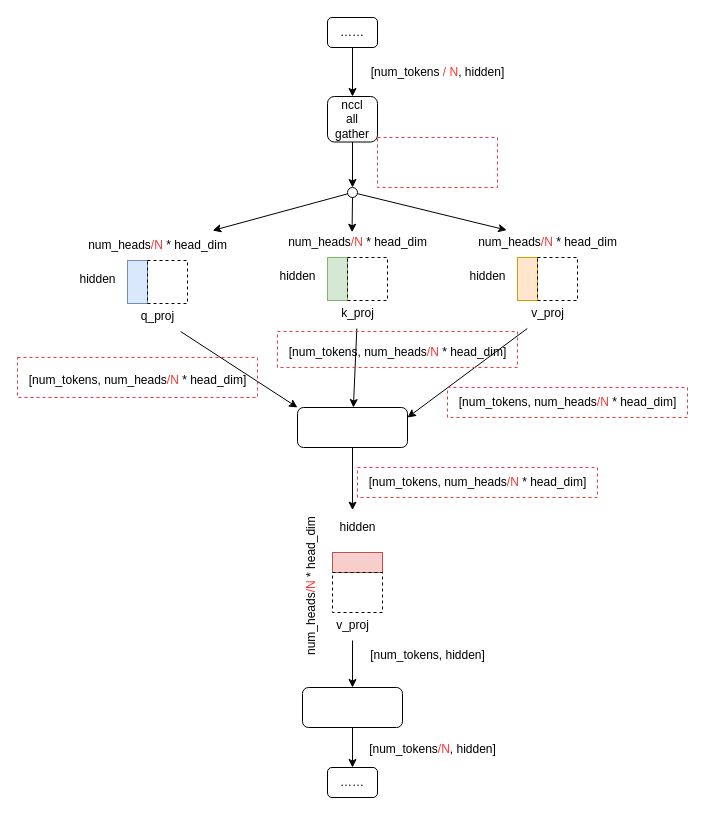
Image size: 705x815. Some labels were removed from this diagram. The shapes that lost their labels are listed below. From the top down, each one's centre as x and y in pixels, then its label:
[437,162]: [num_tokens, hidden] (whole sequence)
[352,427]: flash attention
[352,707]: nccl reduce scatter
